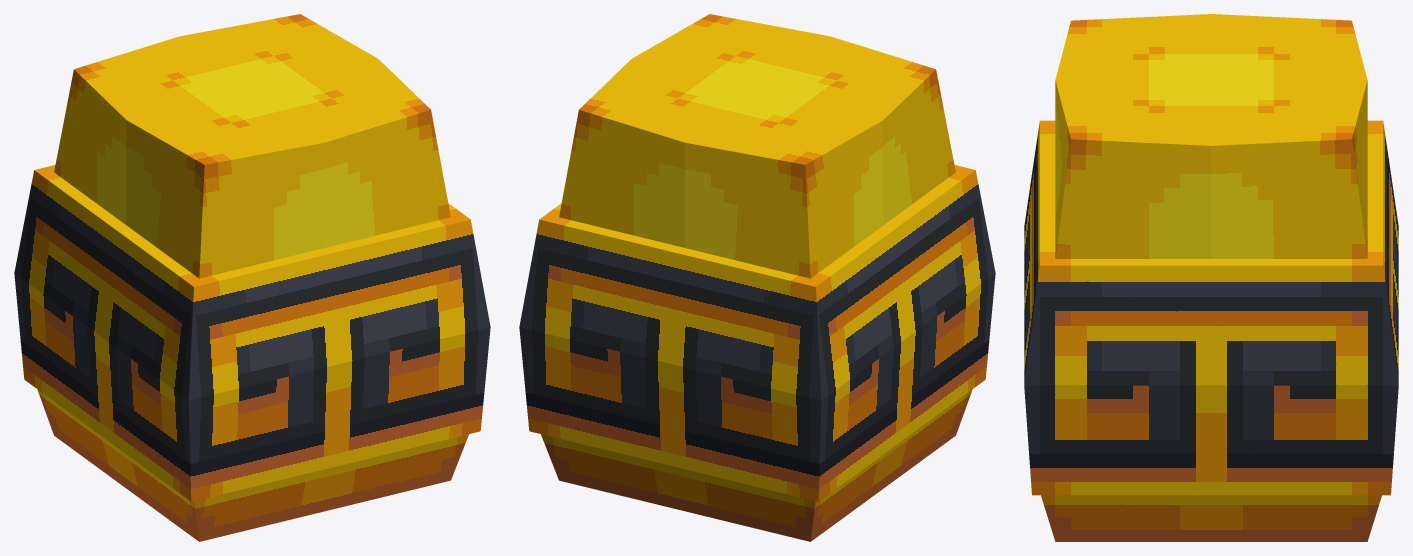
Rendered from egypt-egg.gltf.
3 views of the same model, side by side, from view 1: azimuth 30°, elevation 25°; view 2: azimuth 150°, elevation 25°; view 3: azimuth 270°, elevation 25° (orthographic). The views are drawn at different scales.
Parts seen in each view (by area): view 1: cube (×3); view 2: cube (×3); view 3: cube (×3).
Part boxes in pixels (x1,y1,x2,y2): cube (×3): (14, 14, 490, 541); cube (×3): (519, 14, 995, 541); cube (×3): (1024, 14, 1398, 541).
Bounding box in the file's own units: 0.75 × 0.875 × 0.75.
1 material, 1 textured.
